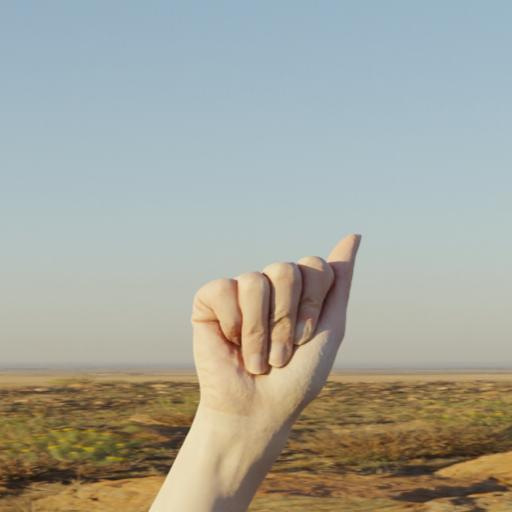A: (164, 218, 376, 509)
